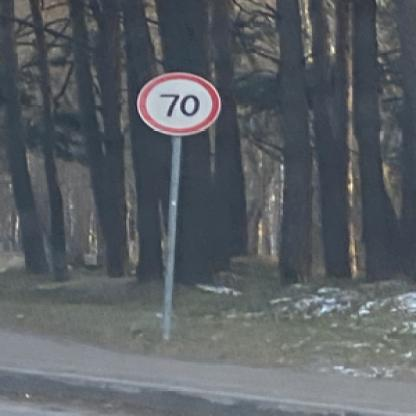Speed Limit 70: (140, 74, 219, 134)
